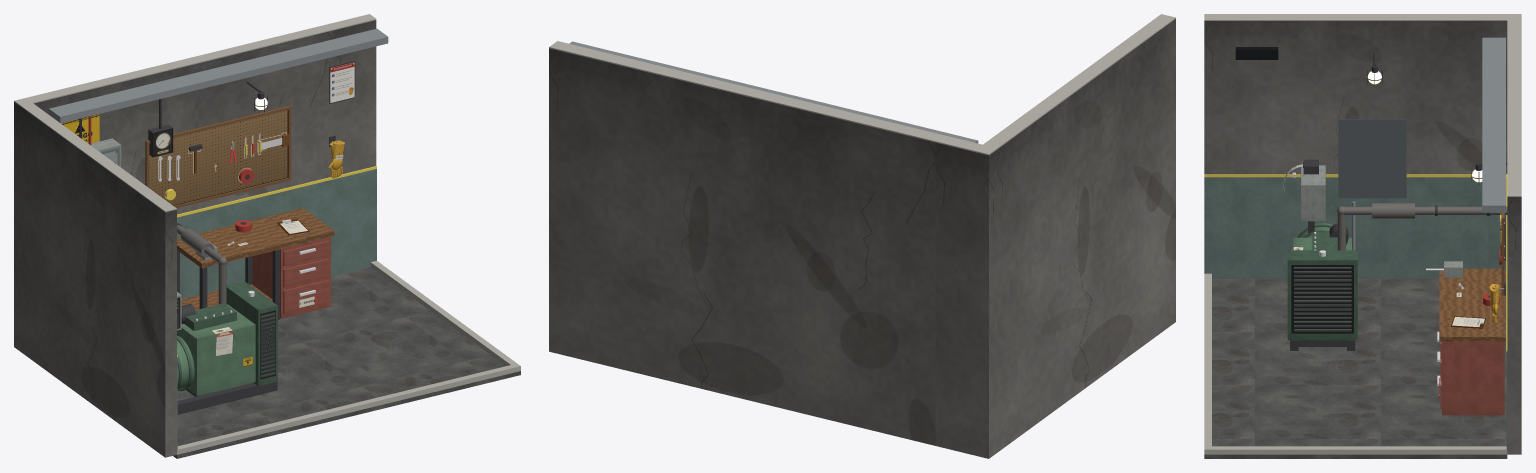
3 renders of one model, left to right at view 1: azimuth 30°, elevation 25°; view 2: azimuth 150°, elevation 25°; view 3: azimuth 270°, elevation 25°, orthographic. The views are drawn at different scales.
Parts seen in each view (by area): view 1: parede_esquerda, piso, parede_fundo, barra_fundo, painel_frente, eletrocalha, motor, tampo, rodape_frente, parede_fundo_corte_topo, gaveteiro, parede_esquerda_corte_topo (+13 smaller); view 2: parede_fundo, parede_esquerda, parede_fundo_corte_topo, parede_esquerda_corte_topo, eletrocalha; view 3: parede_esquerda, piso, barra_esquerda, quadro_eletrico_placa, gaveteiro, radiador_grade_lado, eletrocalha, tampo, parede_fundo, parede_fundo_corte_topo, rodape_direita, radiador (+11 smaller).
Part boxes in pixels (x1,y1,x2,y2): parede_esquerda: (21, 107, 176, 457); piso: (173, 267, 520, 458); parede_fundo: (14, 20, 376, 351); barra_fundo: (177, 169, 376, 299); painel_frente: (149, 110, 287, 205); eletrocalha: (49, 28, 388, 123); motor: (177, 304, 255, 396); tampo: (177, 208, 334, 268); rodape_frente: (177, 365, 520, 454); parede_fundo_corte_topo: (14, 14, 376, 106); gaveteiro: (252, 237, 330, 318); parede_esquerda_corte_topo: (21, 103, 176, 212); parede_fundo: (549, 48, 997, 458); parede_esquerda: (997, 19, 1175, 452); parede_fundo_corte_topo: (549, 41, 997, 155); parede_esquerda_corte_topo: (983, 14, 1175, 148); eletrocalha: (569, 41, 978, 143); parede_esquerda: (1204, 21, 1507, 174); piso: (1204, 279, 1507, 458); barra_esquerda: (1204, 177, 1506, 278); quadro_eletrico_placa: (1338, 119, 1406, 198); gaveteiro: (1442, 342, 1504, 415); radiador_grade_lado: (1291, 265, 1353, 333); eletrocalha: (1482, 37, 1505, 212); tampo: (1439, 268, 1505, 341); parede_fundo: (1507, 197, 1521, 454); parede_fundo_corte_topo: (1507, 14, 1521, 196); rodape_direita: (1204, 446, 1507, 454); radiador: (1287, 250, 1357, 340).
Bounding box in the file's own units: 4.55 × 3.06 × 3.35.
Materials: 47 (26 with a texture image).
